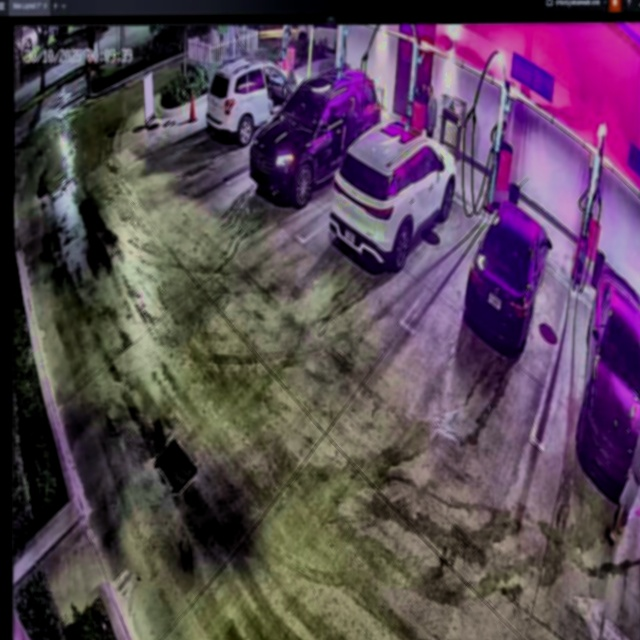Car: (333, 115, 456, 272), (249, 71, 377, 197), (465, 198, 551, 357)
